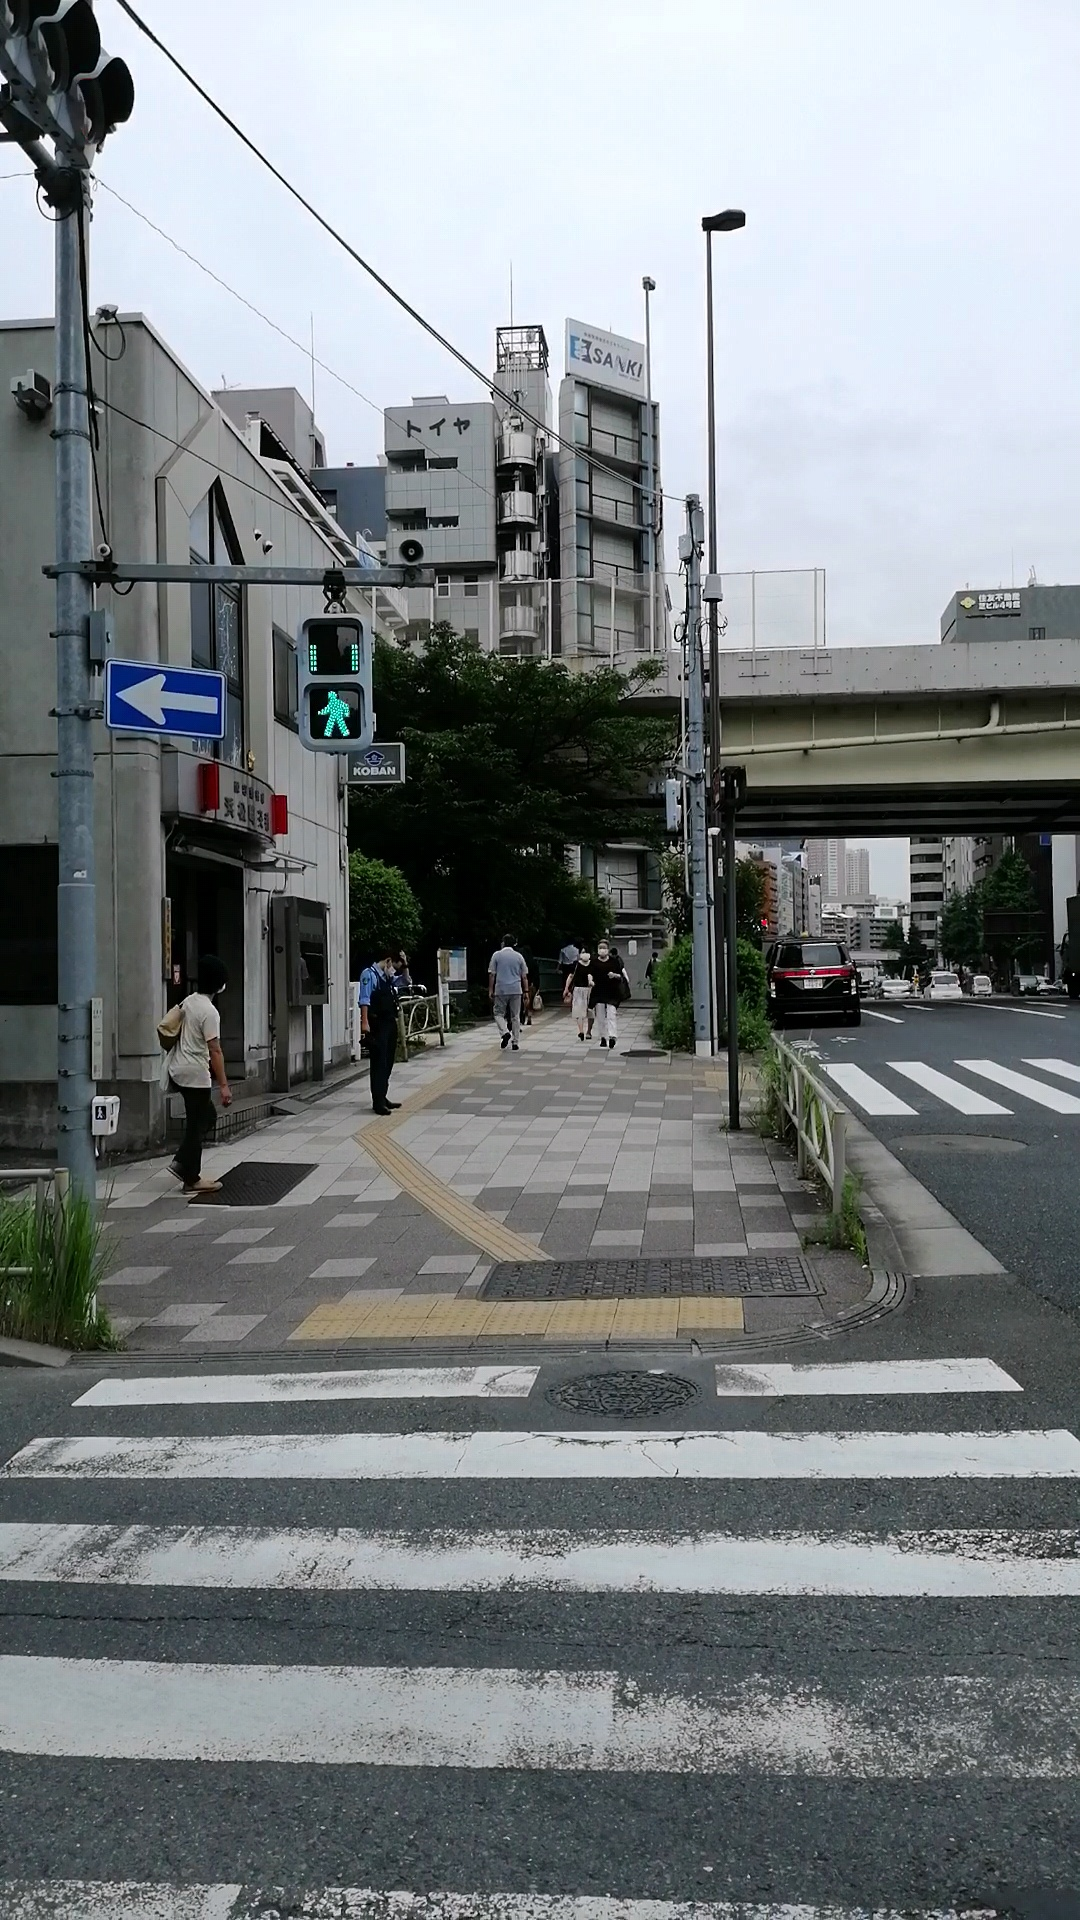green: (295, 613, 378, 754)
